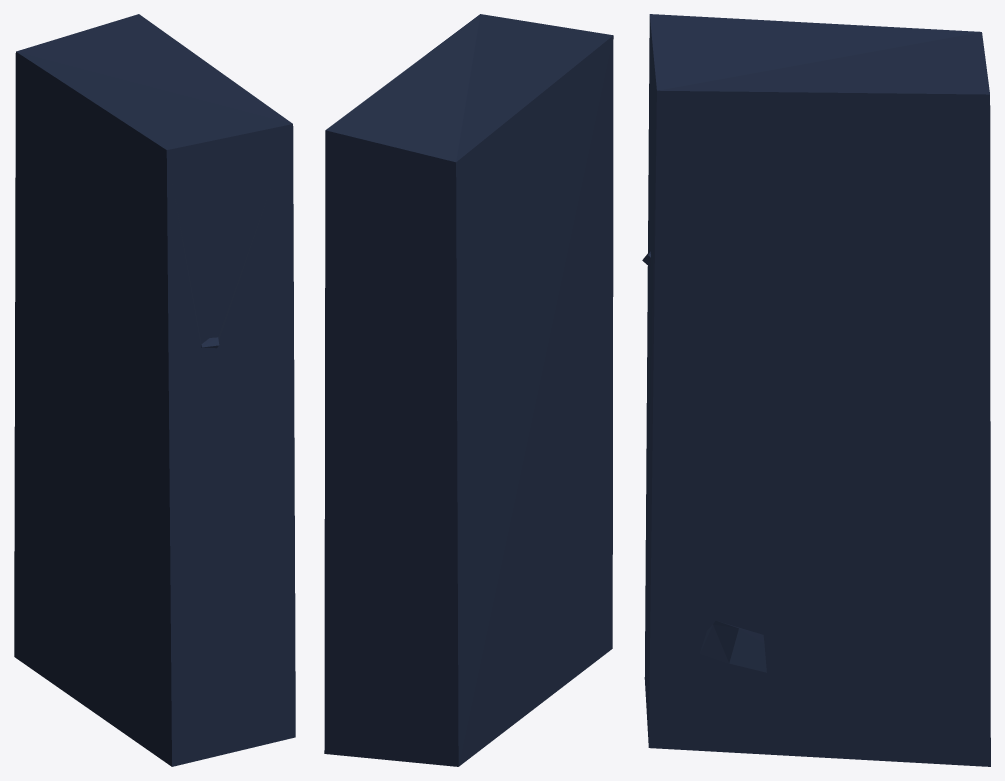
3 views of the same model, side by side, from view 1: azimuth 30°, elevation 25°; view 2: azimuth 150°, elevation 25°; view 3: azimuth 270°, elevation 25° (orthographic). The views are drawn at different scales.
Parts seen in each view (by area): view 1: 183_Cube.761; view 2: 183_Cube.761; view 3: 183_Cube.761.
Part boxes in pixels (left/top/right/bottom): 183_Cube.761: left=14, top=14, right=295, bottom=766; 183_Cube.761: left=324, top=14, right=613, bottom=766; 183_Cube.761: left=642, top=14, right=990, bottom=766.
Bounding box in the file's own units: 3.25 × 12.47 × 5.76.
